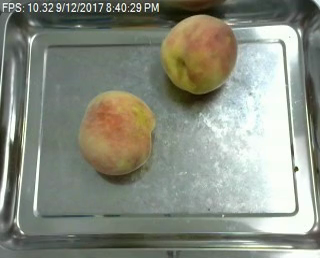Peach: (78, 89, 155, 175), (159, 13, 238, 94)
